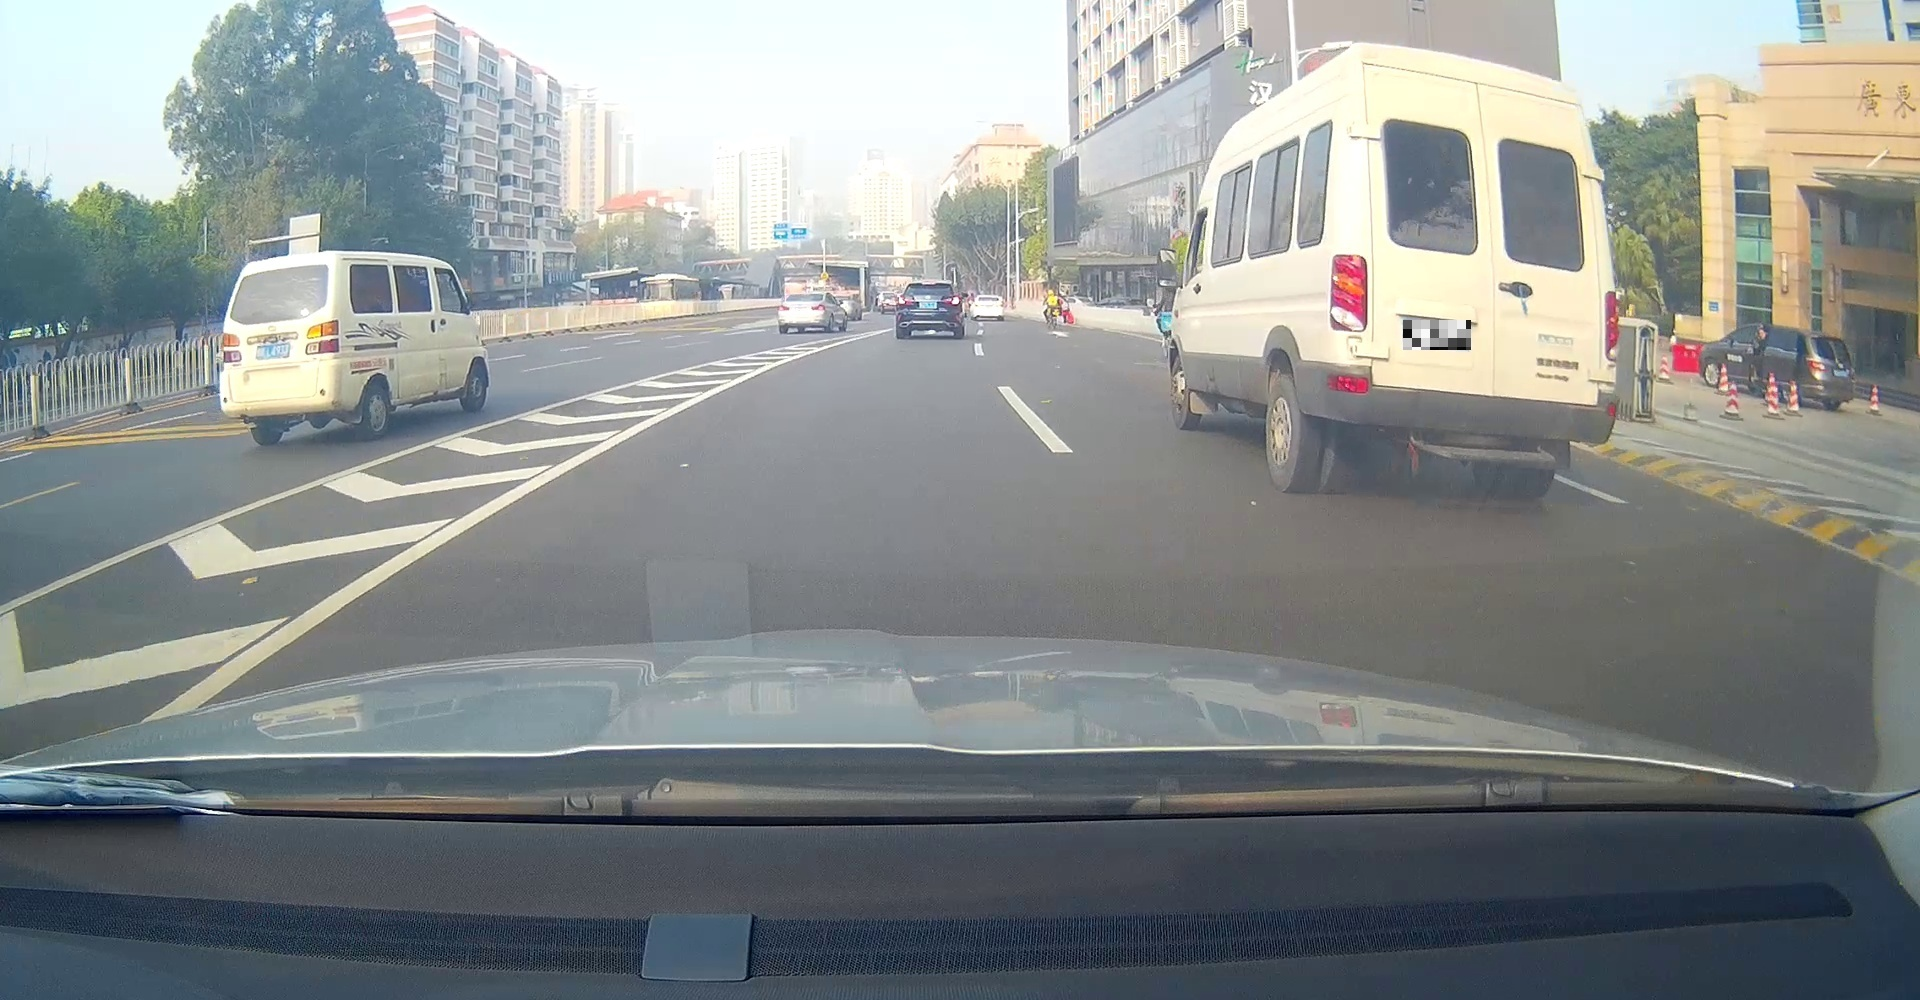L_light: (1330, 254, 1368, 332), (222, 334, 241, 364), (1806, 358, 1829, 372), (898, 296, 917, 306), (778, 305, 791, 311)
R_light: (303, 320, 339, 354), (1604, 291, 1620, 362), (942, 294, 960, 305), (1845, 367, 1855, 379), (809, 305, 825, 311)
T_light: (1462, 77, 1509, 93), (276, 266, 298, 272), (921, 283, 936, 286), (1823, 336, 1835, 338), (803, 293, 811, 294)
day-brake: (897, 280, 963, 339)
day-no: (1326, 42, 1620, 497), (221, 250, 347, 445), (1804, 332, 1855, 412), (777, 292, 827, 335)
plate_1: (1403, 320, 1470, 350)
